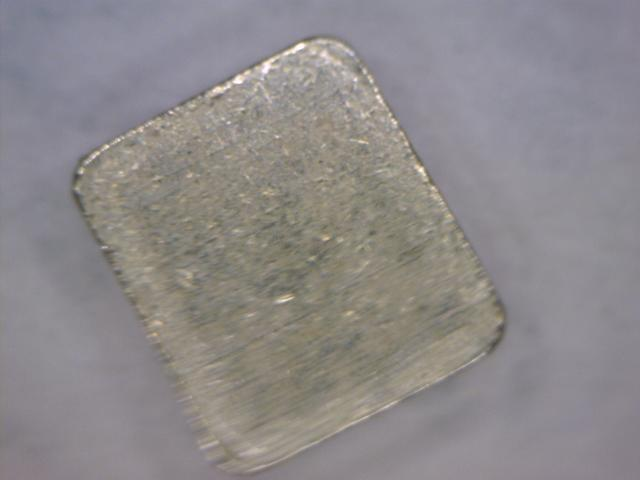ok: (65, 24, 512, 454)
